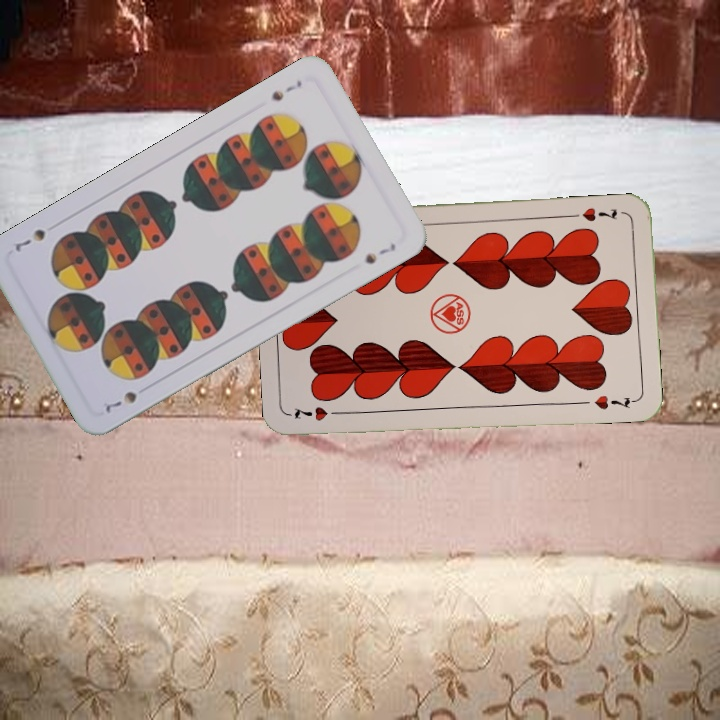H7: (290, 403, 346, 424), (578, 203, 620, 224)
S7: (100, 387, 139, 416), (267, 76, 305, 104)
